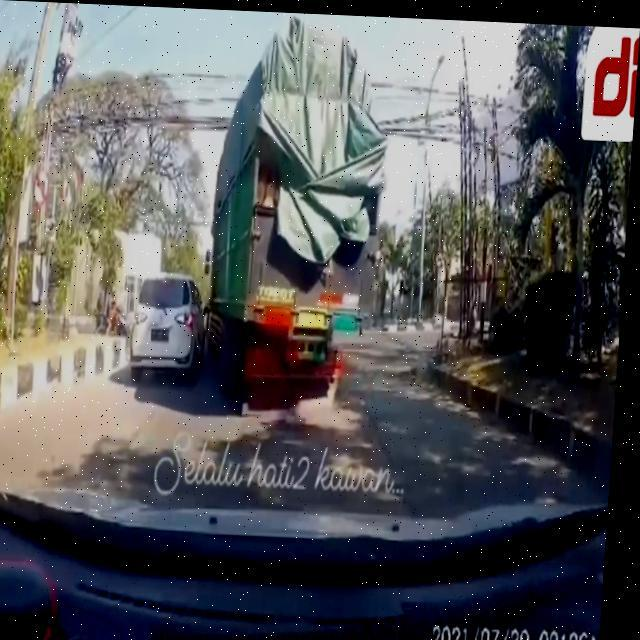multiple_accident: (100, 33, 438, 405)
